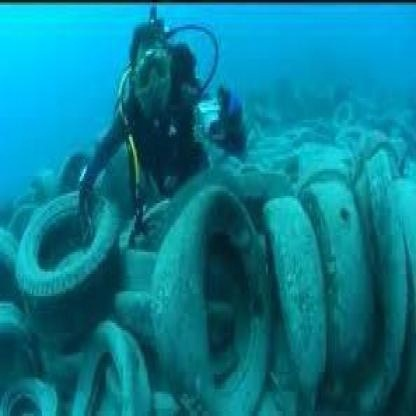tire: (151, 193, 276, 416), (268, 201, 385, 394), (26, 179, 118, 323), (74, 325, 157, 416)
